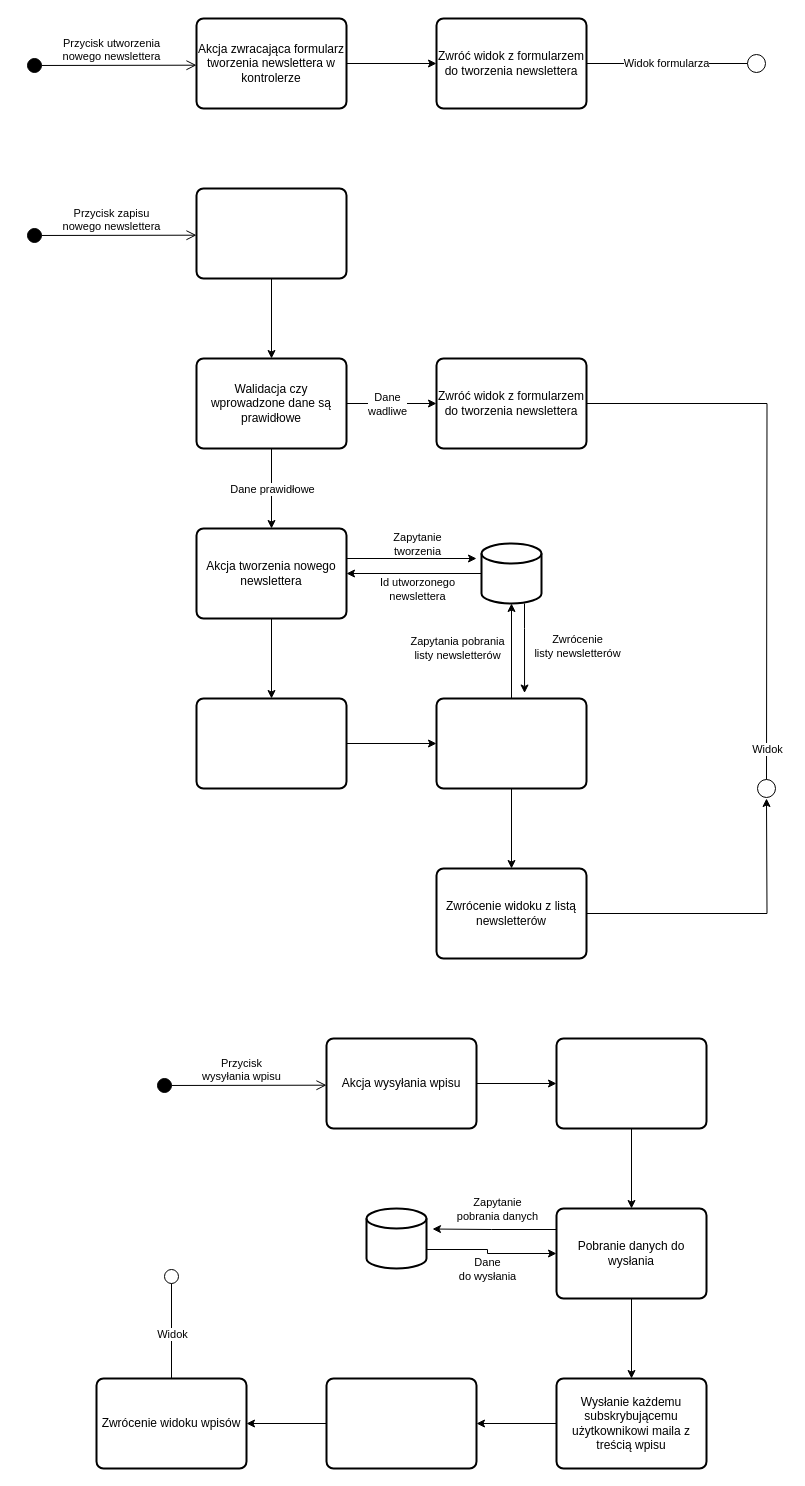
This 805x1486 diagram has some shape labels left out. The shapes that lost their labels are listed below. From the top down, each one's box as (x1, y1, x2, y2) in pixels, then its label:
(195, 187, 347, 279): Akcja tworzenia nowego newslettera w kontrolerze
(195, 697, 347, 789): Zwróć widok z listą wszystkich newsletterów
(435, 697, 587, 789): Akcja zwracania listy wszystkich newsletterów
(555, 1037, 707, 1129): Wysłanie requestu do API wysyłania maili
(325, 1377, 477, 1469): Akcja zwracania widoku wpisów
